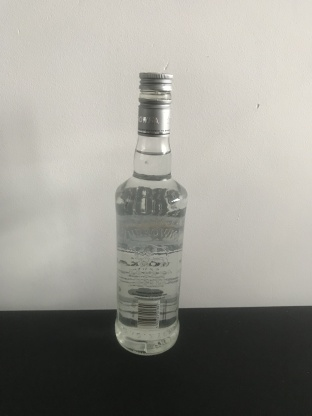nakretka: (136, 68, 174, 138)
